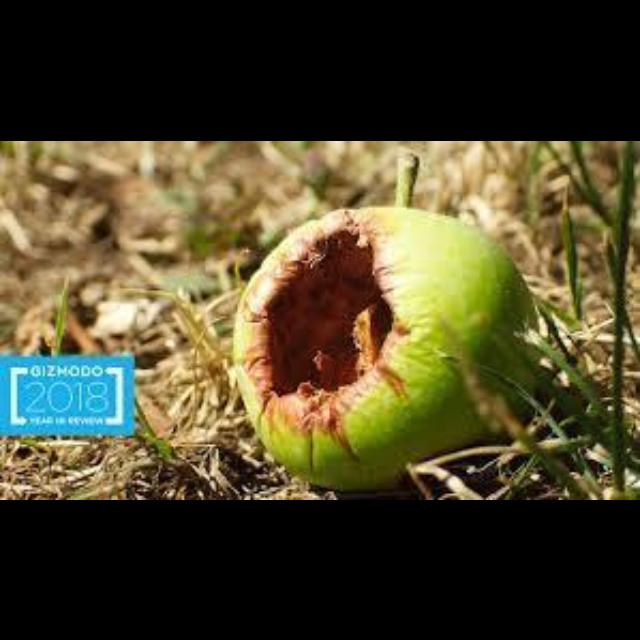apple: (233, 204, 539, 487)
rotten: (264, 230, 393, 419)
